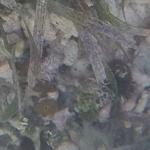dead: (6, 3, 144, 146)
